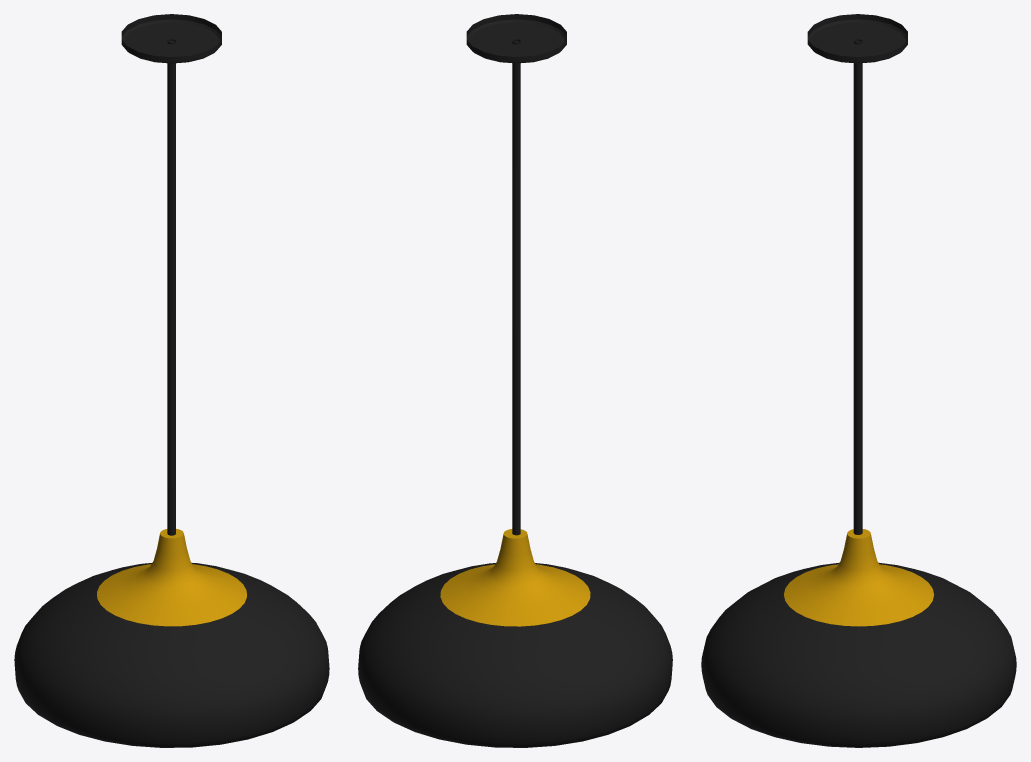
File: lamp1.FBX
3 views of the same model, side by side, from view 1: azimuth 30°, elevation 25°; view 2: azimuth 150°, elevation 25°; view 3: azimuth 270°, elevation 25° (orthographic).
Visible parts, largest first — view 1: lamp1; view 2: lamp1; view 3: lamp1.
Boxes of the visible parts, left/top/right/bottom form: lamp1: left=14, top=14, right=329, bottom=747; lamp1: left=358, top=14, right=672, bottom=747; lamp1: left=701, top=14, right=1016, bottom=747.
Bounding box in the file's own units: 19.71 × 19.71 × 44.67.
